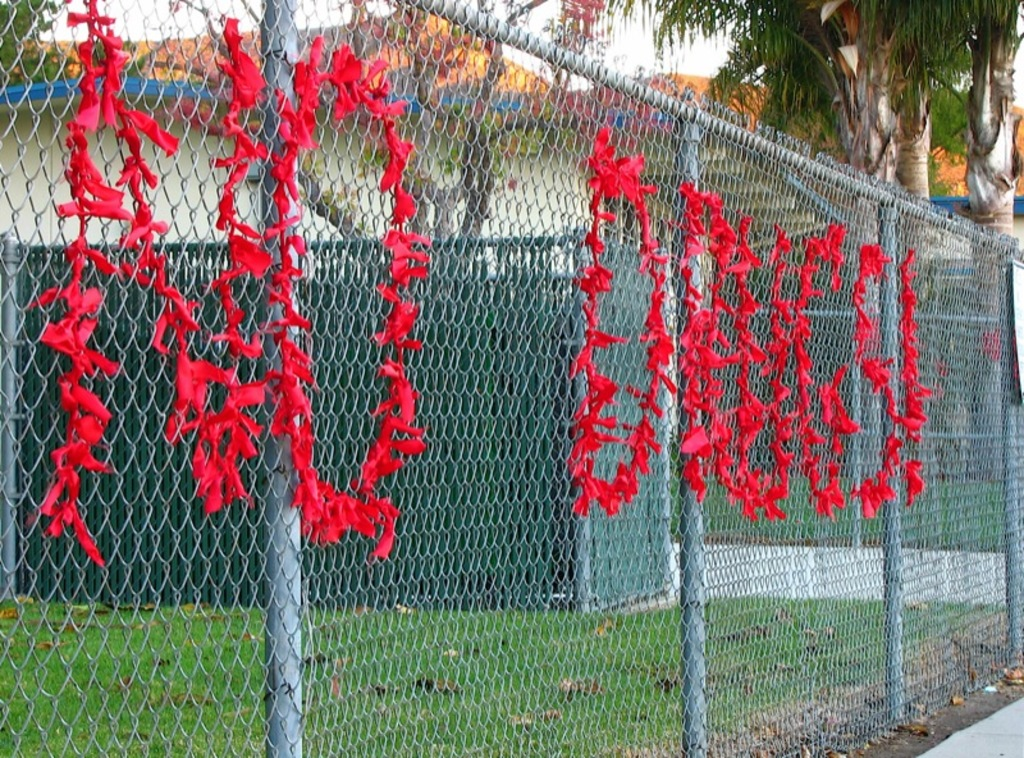Tree: (628, 0, 947, 491), (880, 0, 1020, 486)
